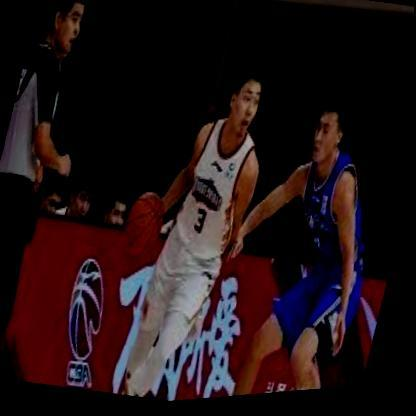basketball: (121, 190, 169, 261)
